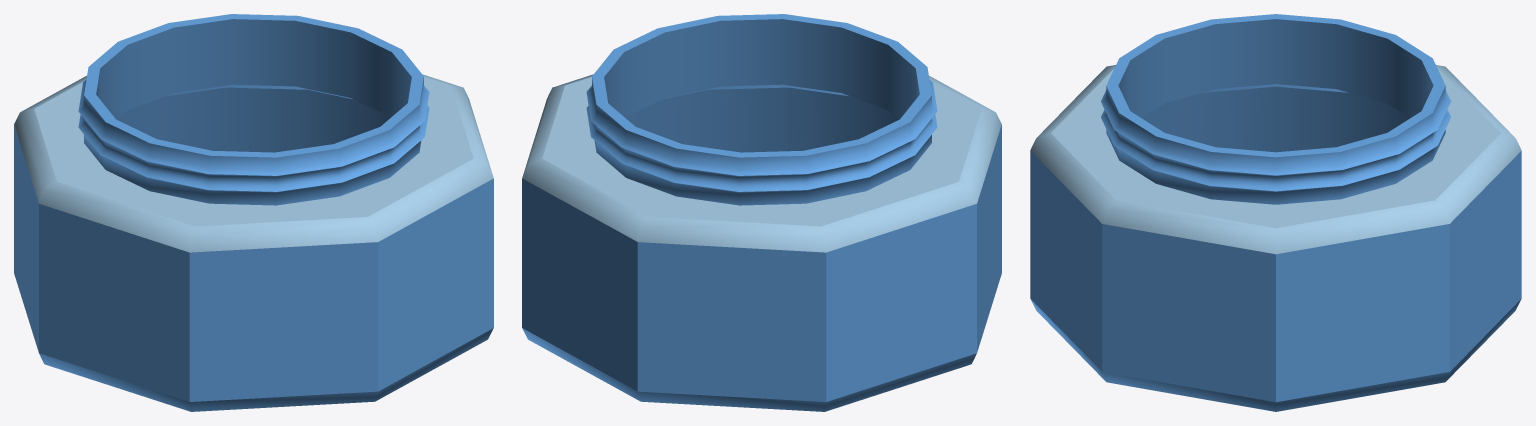
The model's file is cream_2.fbx.
The picture shows the model from 3 angles, left to right: view 1: azimuth 30°, elevation 25°; view 2: azimuth 150°, elevation 25°; view 3: azimuth 270°, elevation 25°; orthographic projection.
Visible parts, largest first — view 1: cream 2; view 2: cream 2; view 3: cream 2.
Part boxes in pixels (x1=…): cream 2: x1=14, y1=14, x2=493, y2=411; cream 2: x1=522, y1=14, x2=1001, y2=411; cream 2: x1=1030, y1=14, x2=1521, y2=411.
Bounding box in the file's own units: 2 × 1.03 × 2.
